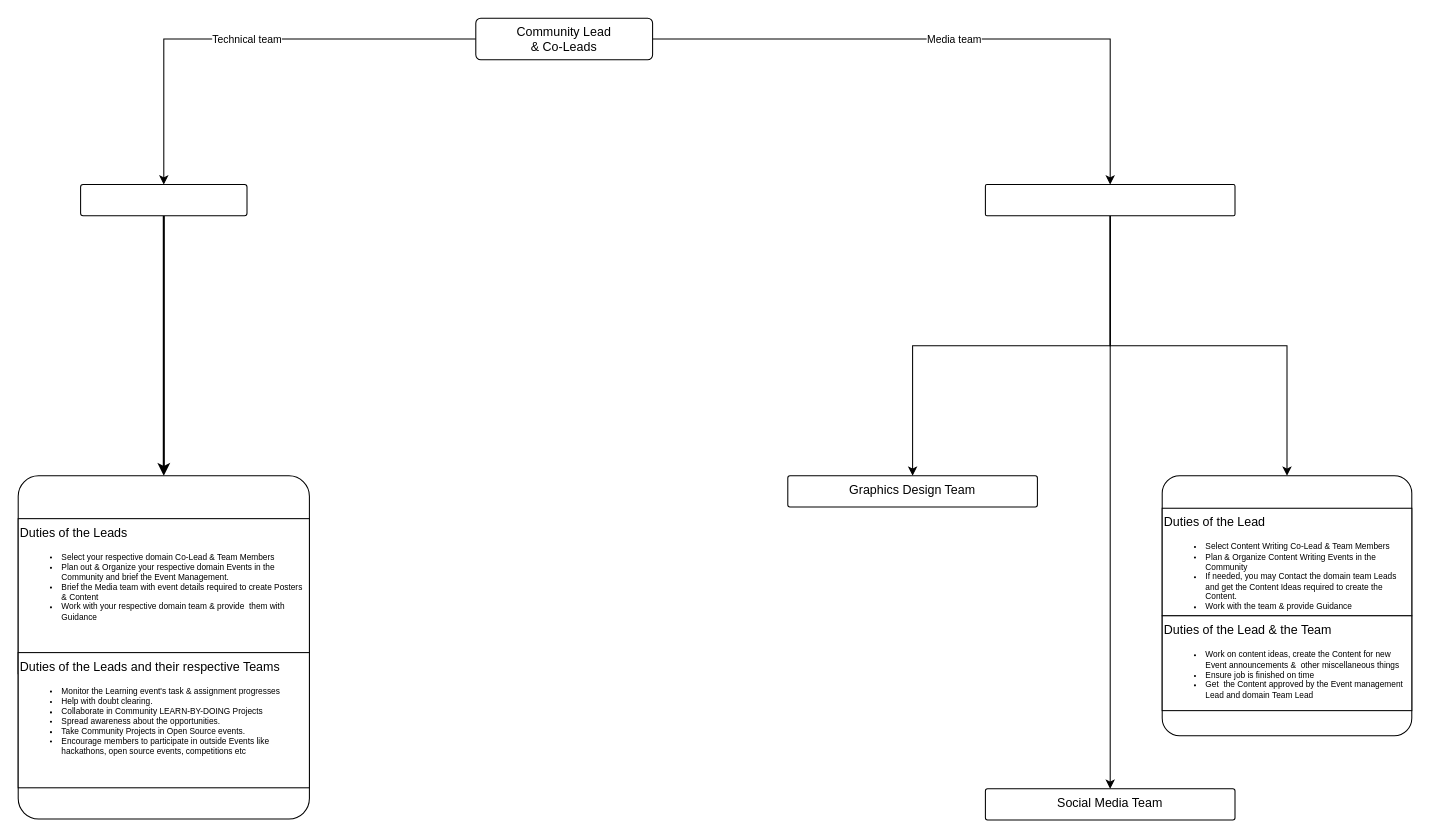
This 1430x838 diagram has some shape labels left out. Each missing label, with the box of its shape:
Content Writing Team: (1161, 475, 1412, 736)
Domain Teams: (17, 475, 309, 819)
Event Management Team: (984, 184, 1235, 216)
Technical Lead: (80, 184, 247, 216)
